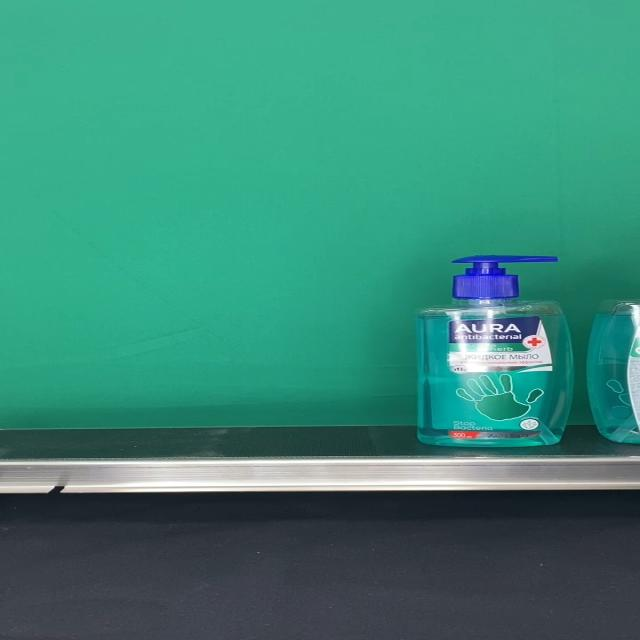Bottle: (415, 256, 574, 447)
Cap: (452, 256, 561, 300)
